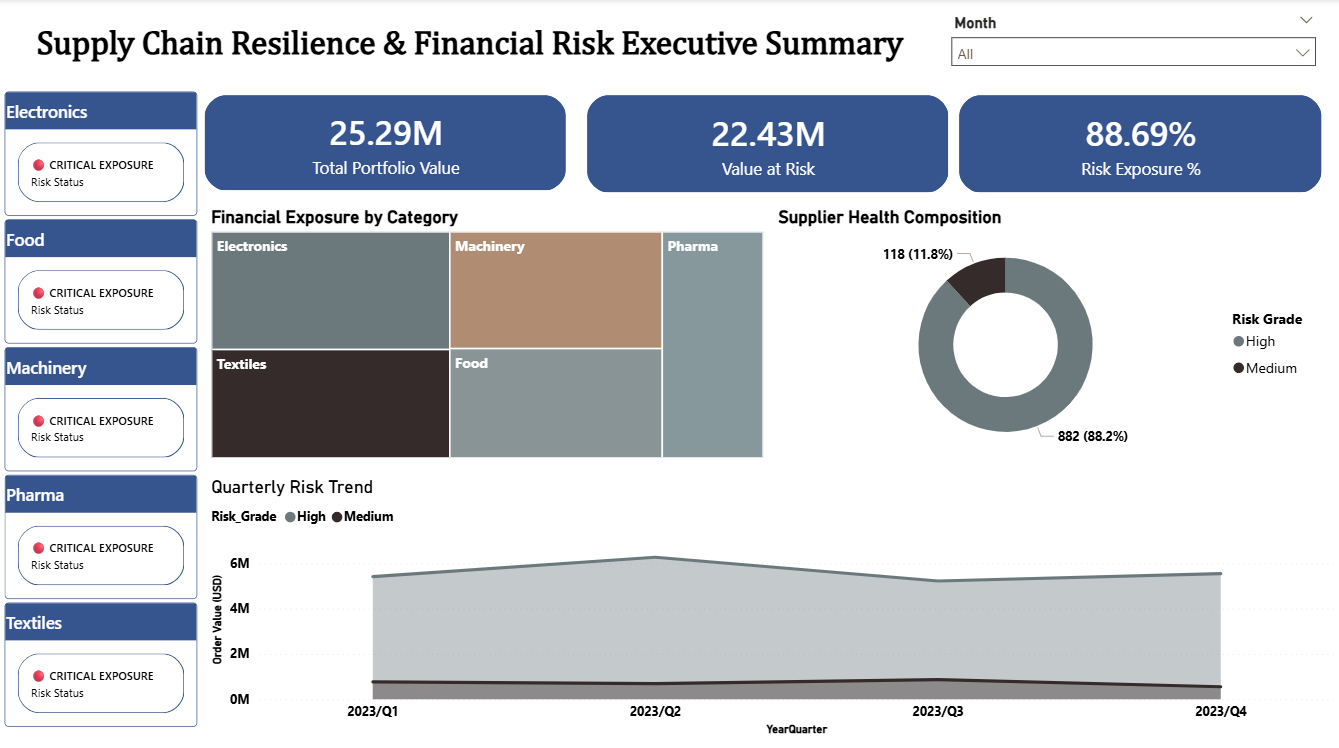

The dashboard page shown, as its layout file describes it:
{"tool":"powerbi","page":{"name":"Strategic Risk Overview","canvas":[1280,720],"ordinal":0},"visuals":[{"type":"cardVisual","fields":{"Data":["Measuretable.Risk Status"],"Rows":["orders_fact.Product_Category"]},"box":[0,62.9,195.5,657.6],"z":0},{"type":"treemap","title":"Financial Exposure by Category","fields":{"Group":["orders_fact.Product_Category"],"Values":["Sum(orders_fact.Order_Value_USD)"]},"box":[197.1,197.1,536.7,245.2],"z":1000},{"type":"areaChart","title":"Quarterly Risk Trend","fields":{"Y":["Sum(orders_fact.Order_Value_USD)"],"Series":["suppliers_dim.Risk_Grade"],"Category":["DateTable.YearQuarter"]},"box":[197.1,455.5,1081.7,251.8],"z":2000},{"type":"donutChart","title":"Supplier Health Composition","fields":{"Category":["suppliers_dim.Risk_Grade"],"Y":["CountNonNull(orders_fact.Supplier_ID)"]},"box":[738.8,197.1,528.4,245.2],"z":3000},{"type":"cardVisual","fields":{"Data":["Measuretable.Total Portfolio Value"]},"box":[178.9,75.1,379.3,125.9],"z":4000},{"type":"cardVisual","fields":{"Data":["Measuretable.Value at Risk"]},"box":[545,74.3,379.3,127.5],"z":5000},{"type":"cardVisual","fields":{"Data":["Measuretable.Risk Exposure %"]},"box":[899.5,74.3,381,127.5],"z":7000},{"type":"textbox","box":[0,19.9,899.5,62.9],"z":7500},{"type":"slicer","fields":{"Values":["DateTable.MonthShort"]},"box":[899.5,8.3,367.7,74.5],"z":9000}]}

Visuals, with their boxes in screenshot pixels (x1, y1, x2, y2), scaled from the page's 1280x720 canvas onto the 1339x748 screenshot:
cardVisual - Measuretable.Risk Status x orders_fact.Product_Category: BBox(0, 65, 205, 747)
"Financial Exposure by Category" treemap: BBox(206, 205, 768, 460)
"Quarterly Risk Trend" areaChart: BBox(206, 473, 1338, 735)
"Supplier Health Composition" donutChart: BBox(773, 205, 1326, 460)
cardVisual - Measuretable.Total Portfolio Value: BBox(187, 78, 584, 209)
cardVisual - Measuretable.Value at Risk: BBox(570, 77, 967, 210)
cardVisual - Measuretable.Risk Exposure %: BBox(941, 77, 1338, 210)
textbox: BBox(0, 21, 941, 86)
slicer - DateTable.MonthShort: BBox(941, 9, 1326, 86)
